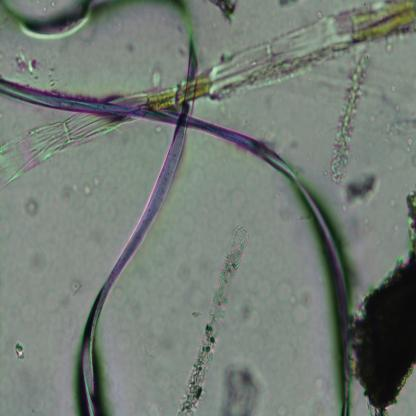Air bubble: (0, 1, 95, 32)
Background material: (170, 225, 250, 414), (350, 190, 416, 413), (329, 54, 377, 188), (218, 359, 269, 413), (381, 81, 416, 159), (0, 44, 57, 86), (275, 280, 317, 324), (347, 173, 379, 206), (211, 1, 241, 21), (8, 338, 26, 363), (147, 66, 164, 90), (24, 194, 40, 219), (388, 47, 394, 54)
Cellulose filter fibre: (0, 1, 416, 192)
Microfibre: (2, 77, 353, 416), (79, 2, 200, 414)
